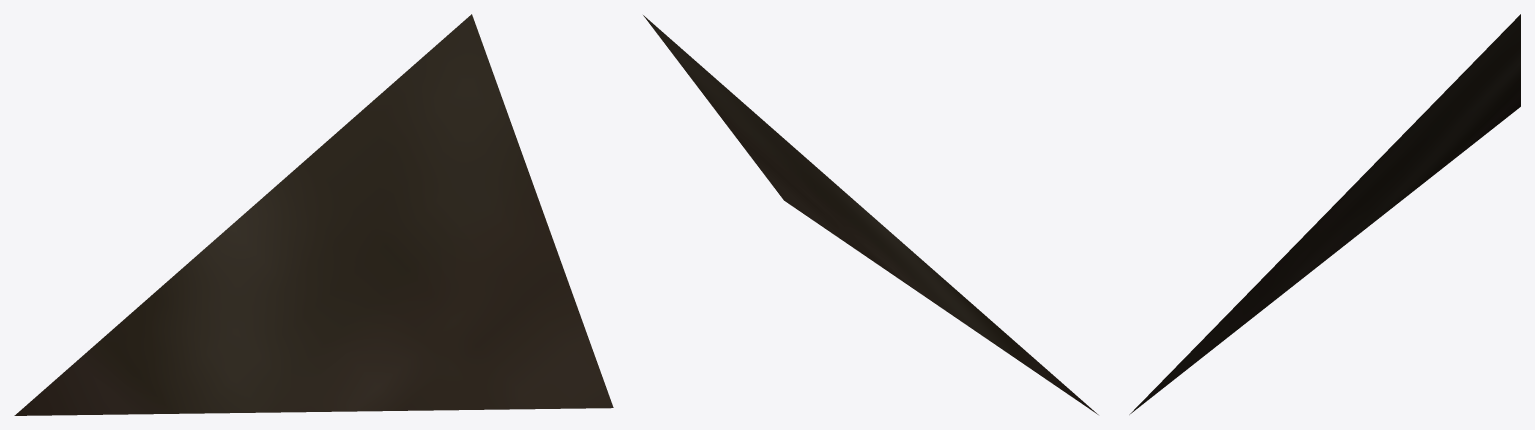
3 renders of one model, left to right at view 1: azimuth 30°, elevation 25°; view 2: azimuth 150°, elevation 25°; view 3: azimuth 270°, elevation 25°, orthographic. The views are drawn at different scales.
Size of the model in its own units: 0.1976 by 0.1198 by 0.1061.
1 material, 1 textured.
